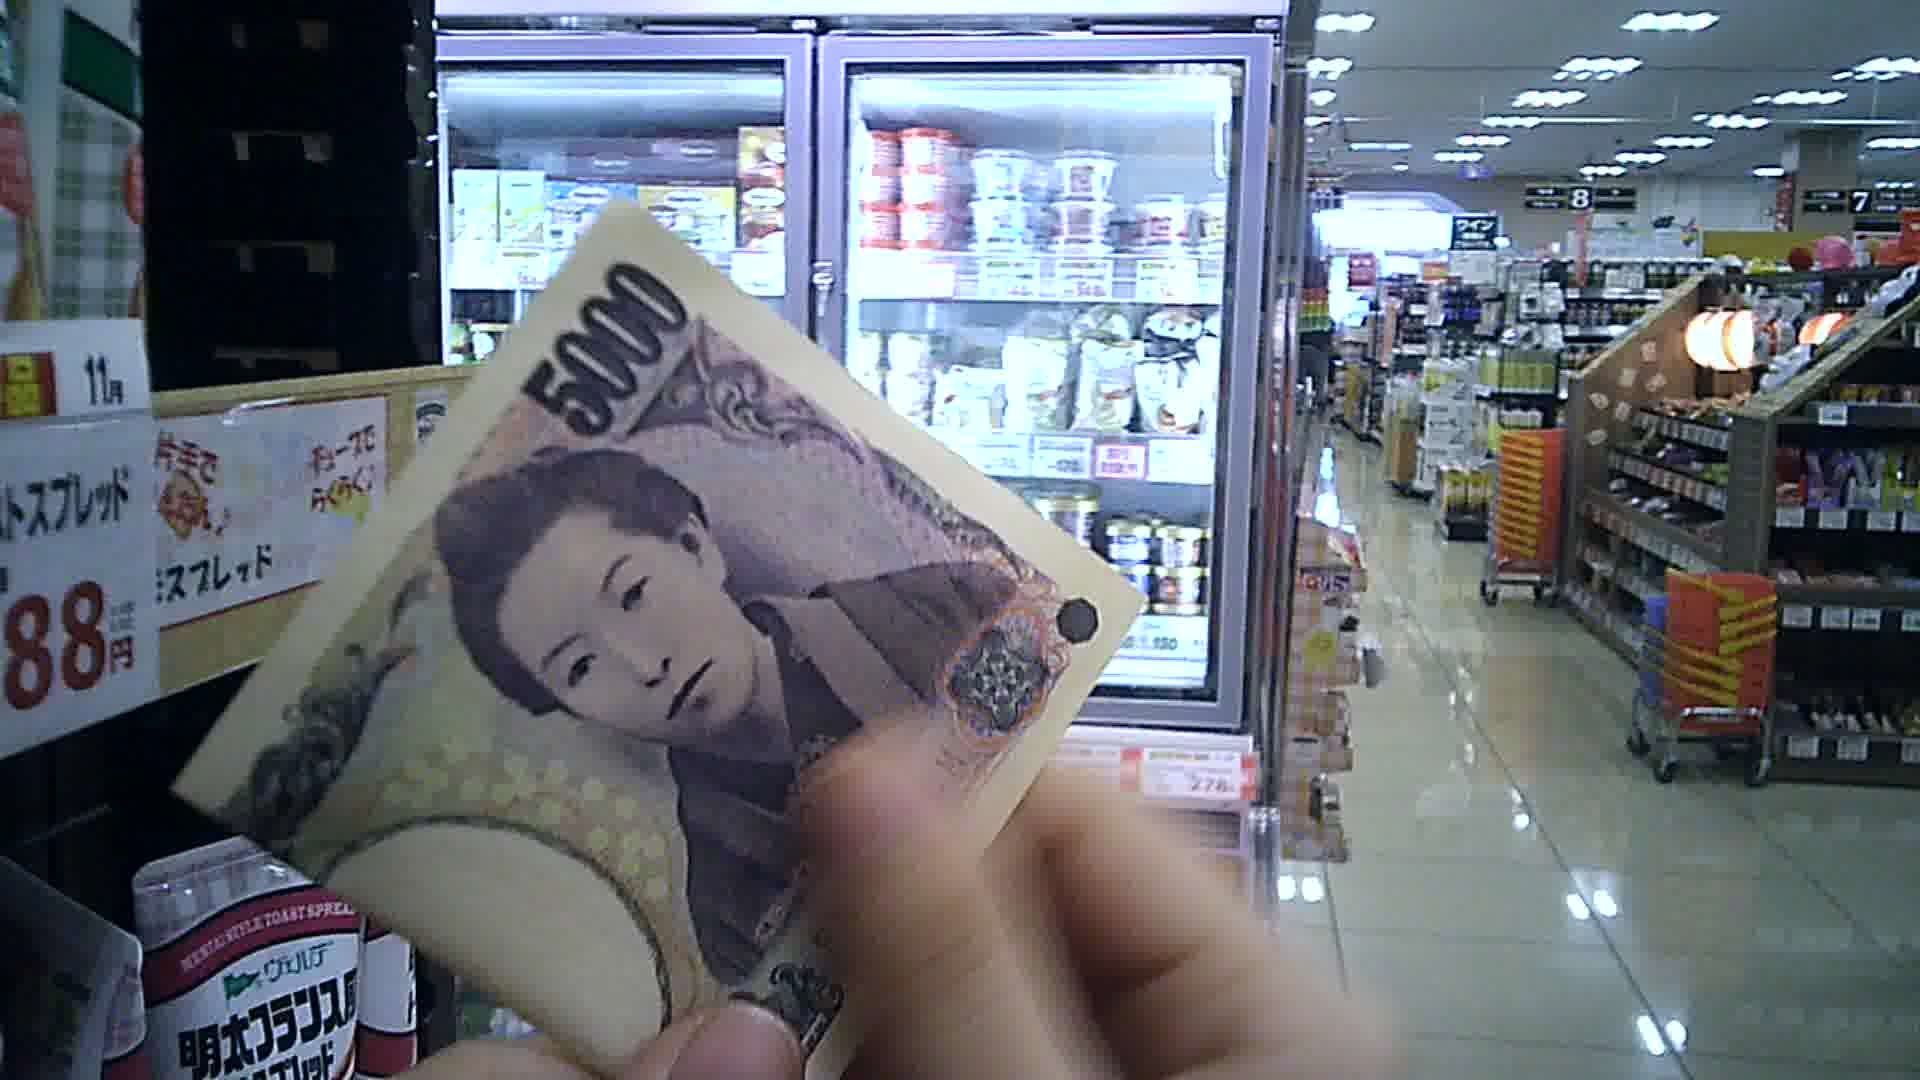5,000 Yen: (193, 189, 1113, 1079)
